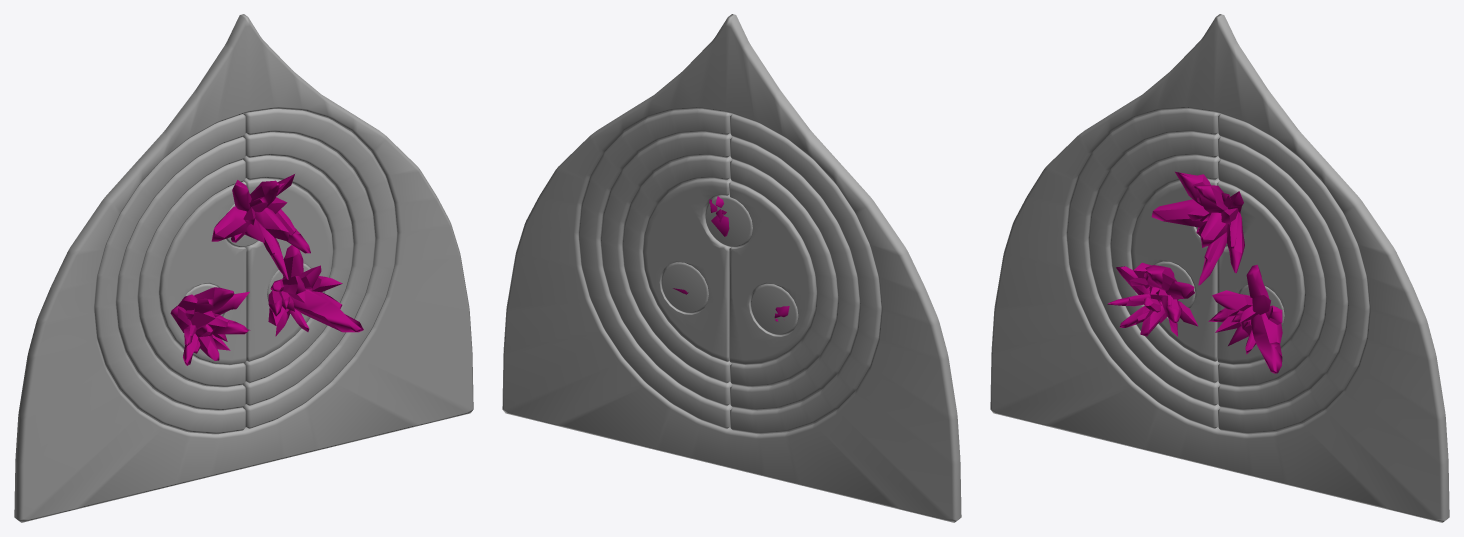
File: Gates_Crystalized.fbx
3 views of the same model, side by side, from view 1: azimuth 30°, elevation 25°; view 2: azimuth 150°, elevation 25°; view 3: azimuth 330°, elevation 25° (orthographic).
Visible parts, largest first — view 1: Gate_Frame, Ring_Outer_Left, Ring_Outer_Right, Ring_Middle_Left, Ring_Middle_Right, Main_Body_Left, Ring_Inner_Left, Main_Body_Right, Ring_Inner_Right, Crystal_02, Crystal_03, Crystal_01; view 2: Gate_Frame, Ring_Outer_Right, Ring_Outer_Left, Main_Body_Left, Main_Body_Right, Ring_Middle_Right, Ring_Middle_Left, Ring_Inner_Left, Ring_Inner_Right, Coin_Right, Coin_Left, Coin_Middle; view 3: Gate_Frame, Ring_Outer_Left, Ring_Outer_Right, Ring_Middle_Right, Ring_Middle_Left, Main_Body_Right, Main_Body_Left, Ring_Inner_Right, Ring_Inner_Left, Crystal_02, Crystal_03, Crystal_01.
Part boxes in pixels (left/top/right/bottom): Gate_Frame: left=14, top=14, right=473, bottom=522; Ring_Outer_Left: left=94, top=114, right=245, bottom=434; Ring_Outer_Right: left=243, top=109, right=397, bottom=428; Ring_Middle_Left: left=116, top=137, right=245, bottom=410; Ring_Middle_Right: left=243, top=132, right=375, bottom=405; Main_Body_Left: left=159, top=181, right=246, bottom=365; Ring_Inner_Left: left=138, top=159, right=245, bottom=387; Main_Body_Right: left=244, top=178, right=333, bottom=361; Ring_Inner_Right: left=243, top=155, right=353, bottom=383; Crystal_02: left=211, top=174, right=310, bottom=279; Crystal_03: left=268, top=245, right=363, bottom=336; Crystal_01: left=170, top=287, right=250, bottom=365; Gate_Frame: left=502, top=14, right=961, bottom=522; Ring_Outer_Right: left=578, top=109, right=732, bottom=428; Ring_Outer_Left: left=730, top=114, right=881, bottom=434; Main_Body_Left: left=729, top=181, right=816, bottom=365; Main_Body_Right: left=642, top=178, right=731, bottom=361; Ring_Middle_Right: left=600, top=132, right=732, bottom=406; Ring_Middle_Left: left=730, top=137, right=859, bottom=410; Ring_Inner_Left: left=730, top=160, right=837, bottom=387; Ring_Inner_Right: left=622, top=156, right=732, bottom=383; Coin_Right: left=661, top=262, right=708, bottom=313; Coin_Left: left=750, top=284, right=798, bottom=335; Coin_Middle: left=705, top=194, right=752, bottom=247; Gate_Frame: left=990, top=14, right=1449, bottom=522; Ring_Outer_Left: left=1066, top=109, right=1220, bottom=428; Ring_Outer_Right: left=1218, top=114, right=1369, bottom=434; Ring_Middle_Right: left=1218, top=137, right=1347, bottom=410; Ring_Middle_Left: left=1088, top=132, right=1220, bottom=405; Main_Body_Right: left=1217, top=181, right=1304, bottom=365; Main_Body_Left: left=1130, top=178, right=1219, bottom=361; Ring_Inner_Right: left=1218, top=159, right=1325, bottom=387; Ring_Inner_Left: left=1110, top=155, right=1220, bottom=383; Crystal_02: left=1151, top=171, right=1244, bottom=285; Crystal_03: left=1208, top=264, right=1282, bottom=373; Crystal_01: left=1107, top=262, right=1198, bottom=336.
Bounding box in the file's own units: 600 × 568 × 98.62.
